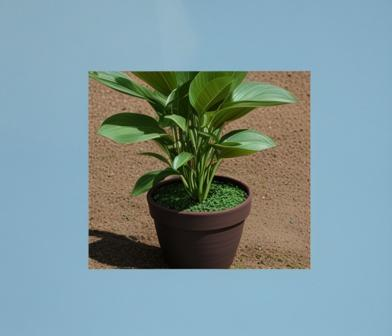pottedplant: (87, 70, 311, 269)
